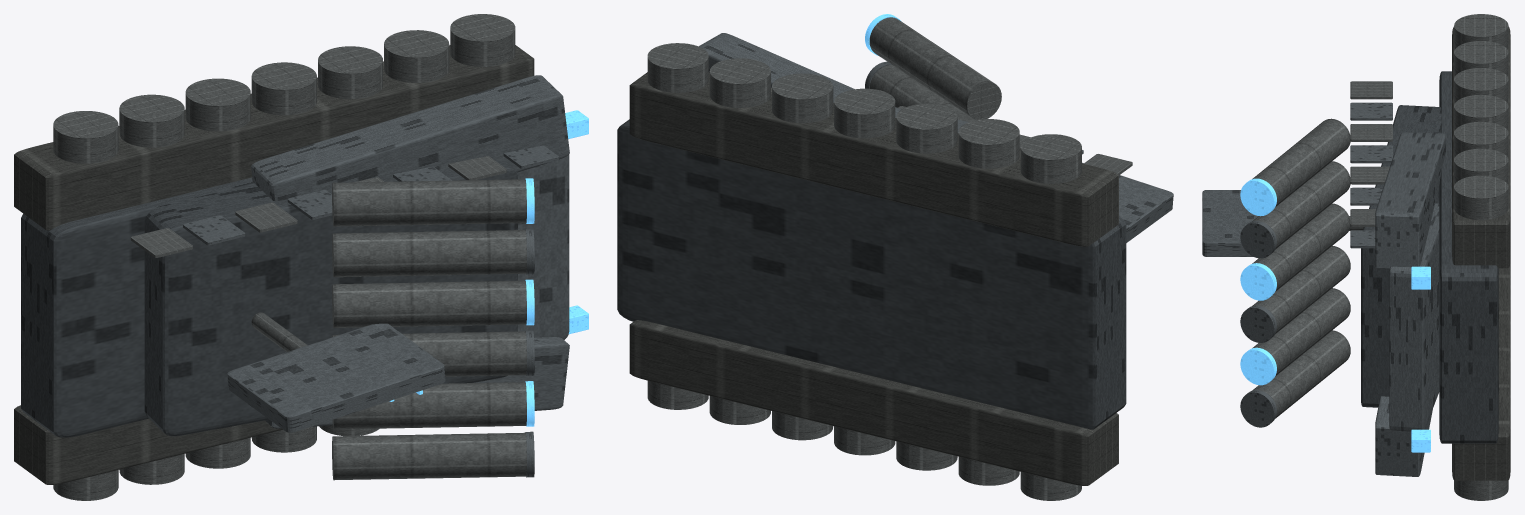
Rendered from s-u15-specter-mobile-sam-lod0.glb.
3 renders of one model, left to right at view 1: azimuth 30°, elevation 25°; view 2: azimuth 150°, elevation 25°; view 3: azimuth 270°, elevation 25°, orthographic. The views are drawn at different scales.
Parts seen in each view (by area): view 1: stealth_upper_hull, chassis_lower, chassis_track_1, stealth_cheek_1, sam_radar_array, chassis_track_-1, sam_tube_6, sam_tube_5, sam_tube_1, sam_tube_4, chassis_glacis, sam_tube_2 (+20 smaller); view 2: chassis_lower, chassis_track_1, chassis_track_-1, sam_tube_6, chassis_roadwheel_1_3, chassis_roadwheel_1_6, chassis_roadwheel_1_2, chassis_roadwheel_1_4, chassis_roadwheel_1_0, chassis_roadwheel_1_1, chassis_roadwheel_1_5, stealth_cheek_1 (+9 smaller); view 3: chassis_lower, chassis_glacis, stealth_cheek_1, stealth_upper_hull, chassis_track_-1, chassis_track_1, sam_tube_6, sam_tube_1, sam_tube_4, sam_tube_3, sam_tube_2, sam_tube_5 (+26 smaller).
Boxes of the visible parts, x1,y1,x2,y2 form: stealth_upper_hull: [144, 159, 517, 436]; chassis_lower: [21, 177, 253, 437]; chassis_track_1: [14, 45, 534, 230]; stealth_cheek_1: [251, 75, 569, 201]; sam_radar_array: [227, 323, 445, 432]; chassis_track_-1: [14, 405, 282, 484]; sam_tube_6: [332, 179, 526, 226]; sam_tube_5: [332, 230, 526, 277]; sam_tube_1: [332, 432, 526, 480]; sam_tube_4: [332, 280, 526, 327]; chassis_glacis: [517, 154, 569, 339]; sam_tube_2: [332, 382, 526, 429]; chassis_lower: [617, 119, 1126, 429]; chassis_track_1: [629, 72, 1118, 246]; chassis_track_-1: [629, 320, 1118, 485]; sam_tube_6: [869, 17, 1001, 119]; chassis_roadwheel_1_3: [834, 88, 895, 138]; chassis_roadwheel_1_6: [647, 43, 708, 92]; chassis_roadwheel_1_2: [896, 103, 957, 153]; chassis_roadwheel_1_4: [772, 73, 833, 123]; chassis_roadwheel_1_0: [1020, 134, 1081, 183]; chassis_roadwheel_1_1: [958, 119, 1019, 168]; chassis_roadwheel_1_5: [709, 58, 770, 107]; stealth_cheek_1: [699, 33, 900, 117]; chassis_lower: [1439, 71, 1498, 443]; chassis_glacis: [1389, 203, 1439, 432]; stealth_cheek_1: [1375, 132, 1445, 268]; stealth_upper_hull: [1361, 105, 1441, 407]; chassis_track_-1: [1452, 260, 1510, 480]; chassis_track_1: [1452, 27, 1510, 268]; sam_tube_6: [1252, 118, 1350, 207]; sam_tube_1: [1252, 330, 1350, 418]; sam_tube_4: [1252, 203, 1350, 291]; sam_tube_3: [1252, 246, 1350, 334]; sam_tube_2: [1252, 288, 1350, 376]; sam_tube_5: [1252, 161, 1350, 249].
Size of what is drawn, in the model's own units: 6.08 by 4.07 by 3.76.
6 materials, 6 textured.
